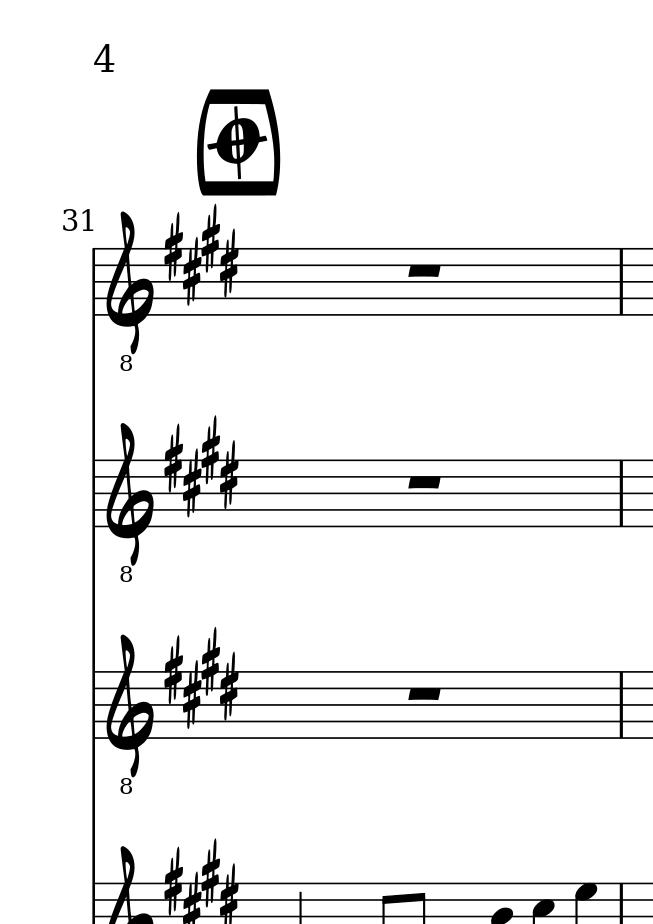1: (81, 207, 94, 234)
3: (61, 207, 76, 233)
4: (94, 40, 116, 77)
Coda: (211, 105, 266, 176)
E_S: (161, 631, 245, 726), (163, 418, 241, 515), (164, 207, 241, 304)
Lower_Gclef: (102, 633, 157, 797), (105, 210, 157, 374), (105, 422, 156, 584)
Rests1: (404, 260, 449, 285), (402, 682, 447, 707), (404, 473, 450, 493)
Single_barline: (613, 459, 629, 528), (613, 248, 629, 316), (86, 248, 101, 320), (86, 459, 101, 530), (86, 672, 101, 739), (614, 671, 629, 737)
